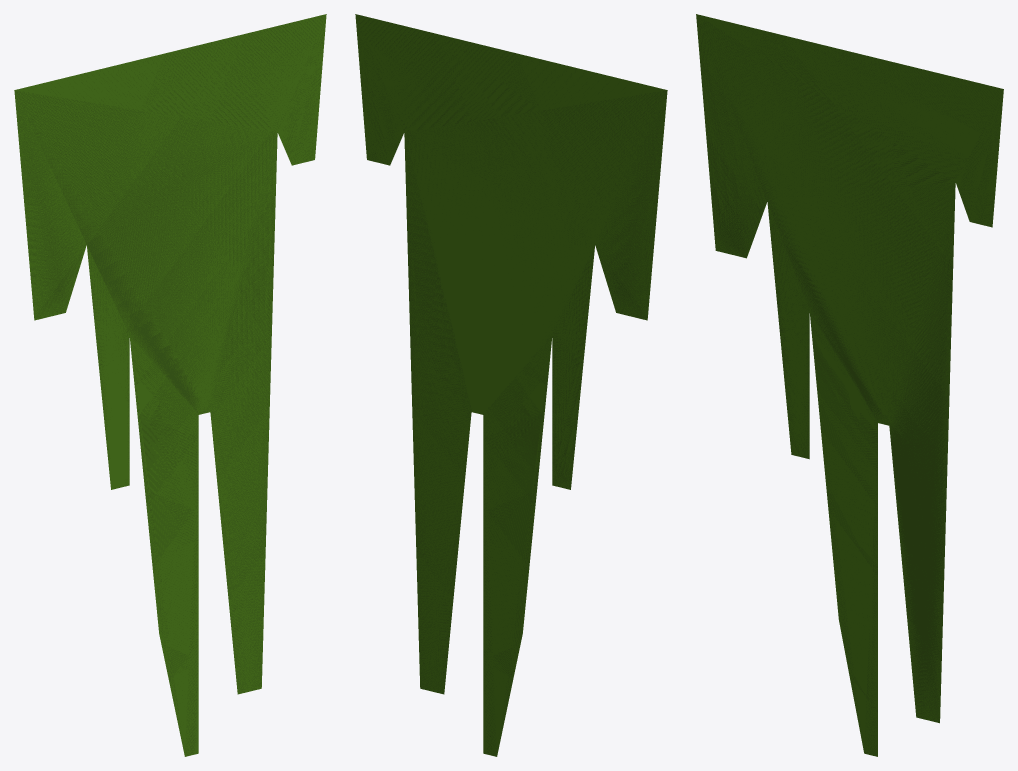
File: Vegetation_Moss_Hanging_01.fbx
3 renders of one model, left to right at view 1: azimuth 30°, elevation 25°; view 2: azimuth 150°, elevation 25°; view 3: azimuth 330°, elevation 25°, orthographic.
Parts seen in each view (by area): view 1: Vegetation_Moss_Hanging_01; view 2: Vegetation_Moss_Hanging_01; view 3: Vegetation_Moss_Hanging_01.
Boxes of the visible parts, x1,y1,x2,y2 form: Vegetation_Moss_Hanging_01: [14, 14, 326, 756]; Vegetation_Moss_Hanging_01: [355, 14, 667, 756]; Vegetation_Moss_Hanging_01: [696, 14, 1003, 756].
Bounding box in the file's own units: 1146 × 2485 × 0.00173.
